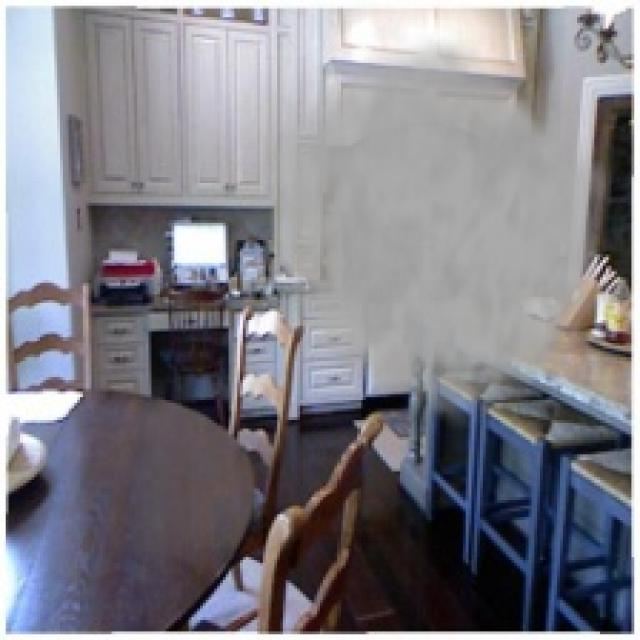Smoke: (263, 26, 612, 437)
